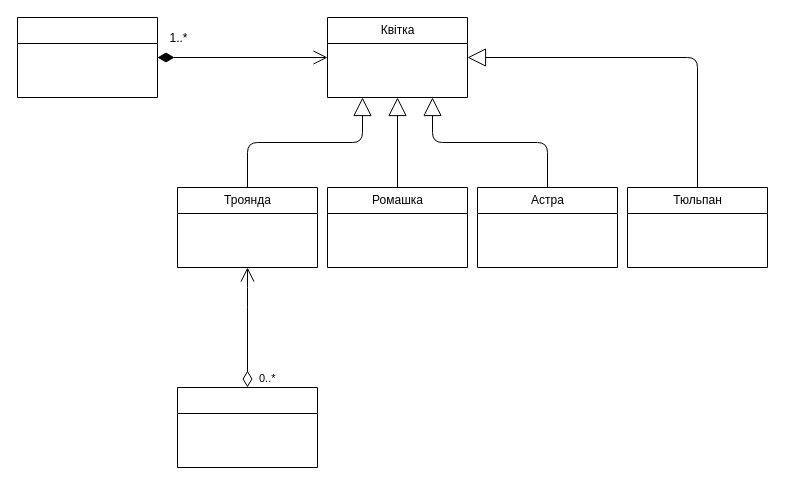
This 785x485 diagram has some shape labels left out. The shapes that lost their labels are listed below. From the top down, each one's centre as x and y in pixels, then its label:
At pixel 87 57: "Букет".
At pixel 247 427: "Кущ трояндовий".
